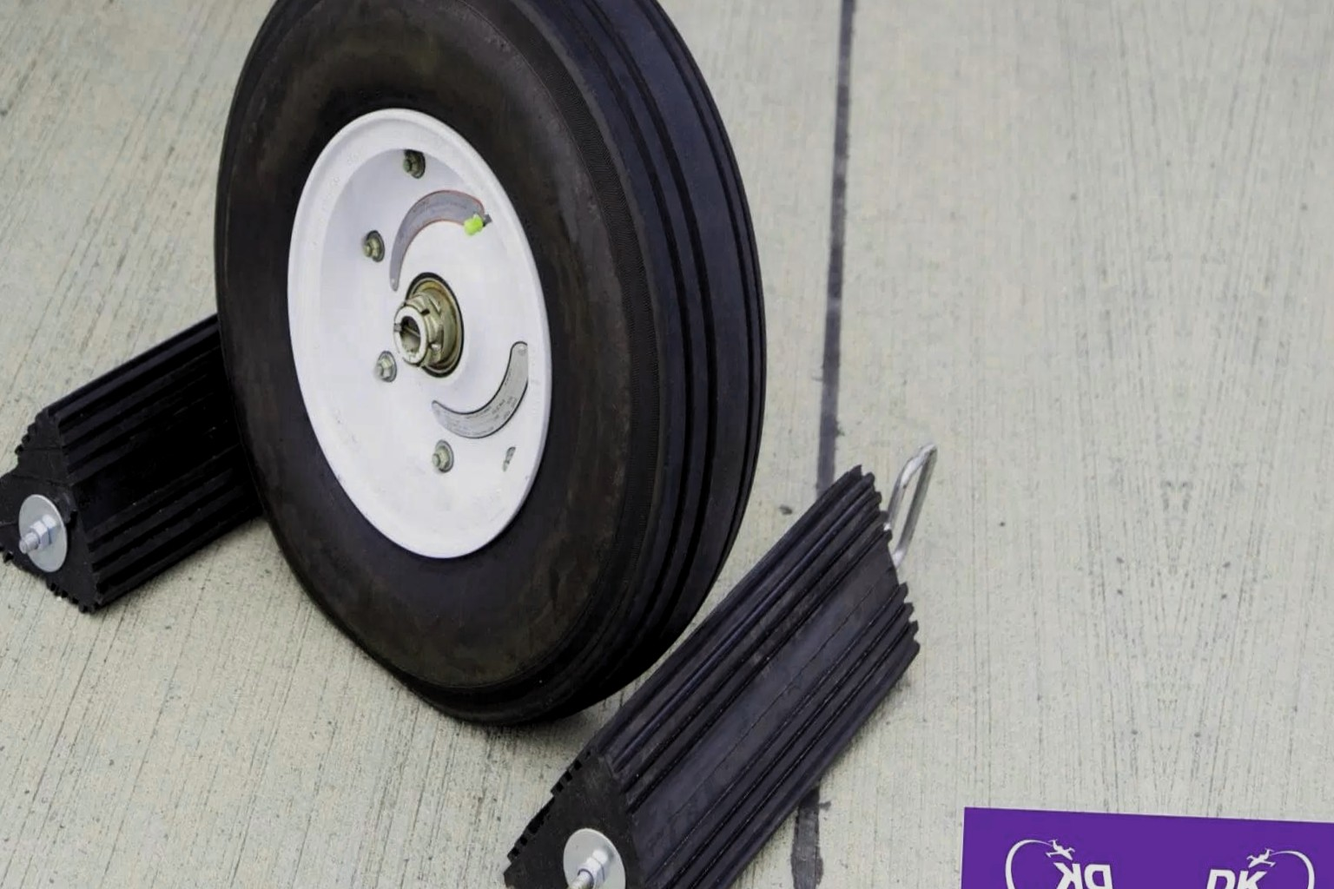chock: (497, 447, 930, 889), (0, 285, 381, 627)
wheel: (189, 0, 789, 745)
